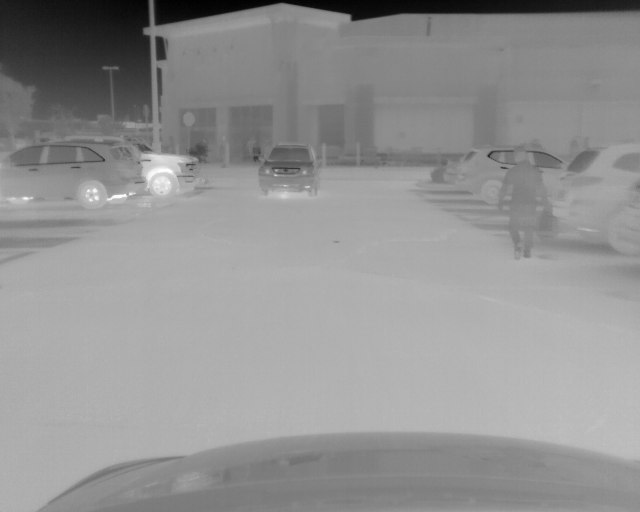car: (551, 144, 640, 254), (3, 141, 147, 207), (65, 135, 198, 198), (453, 145, 571, 204), (255, 143, 321, 197)
people: (496, 144, 549, 259)
